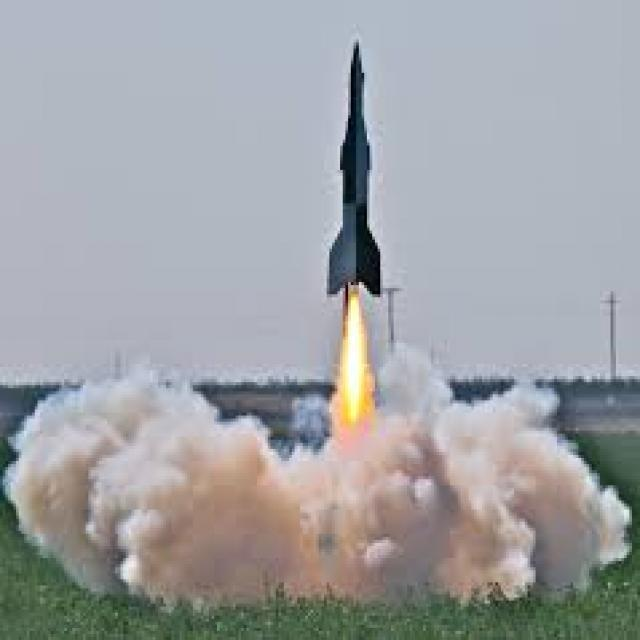missile: (338, 30, 371, 305)
